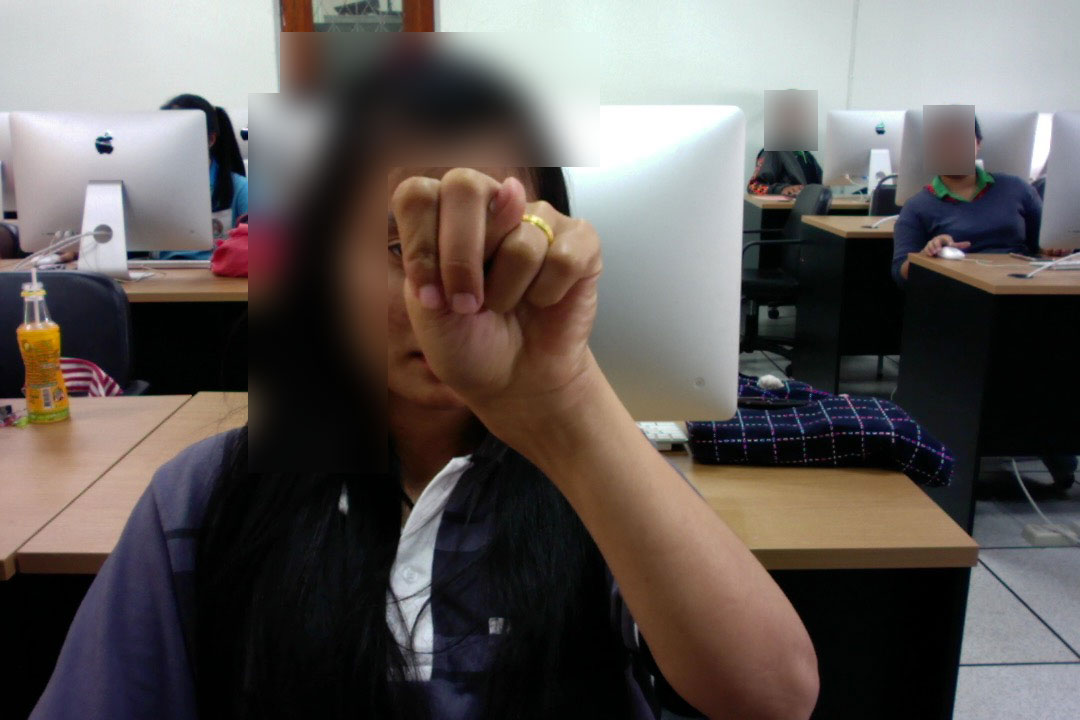nor: (388, 159, 610, 420)
